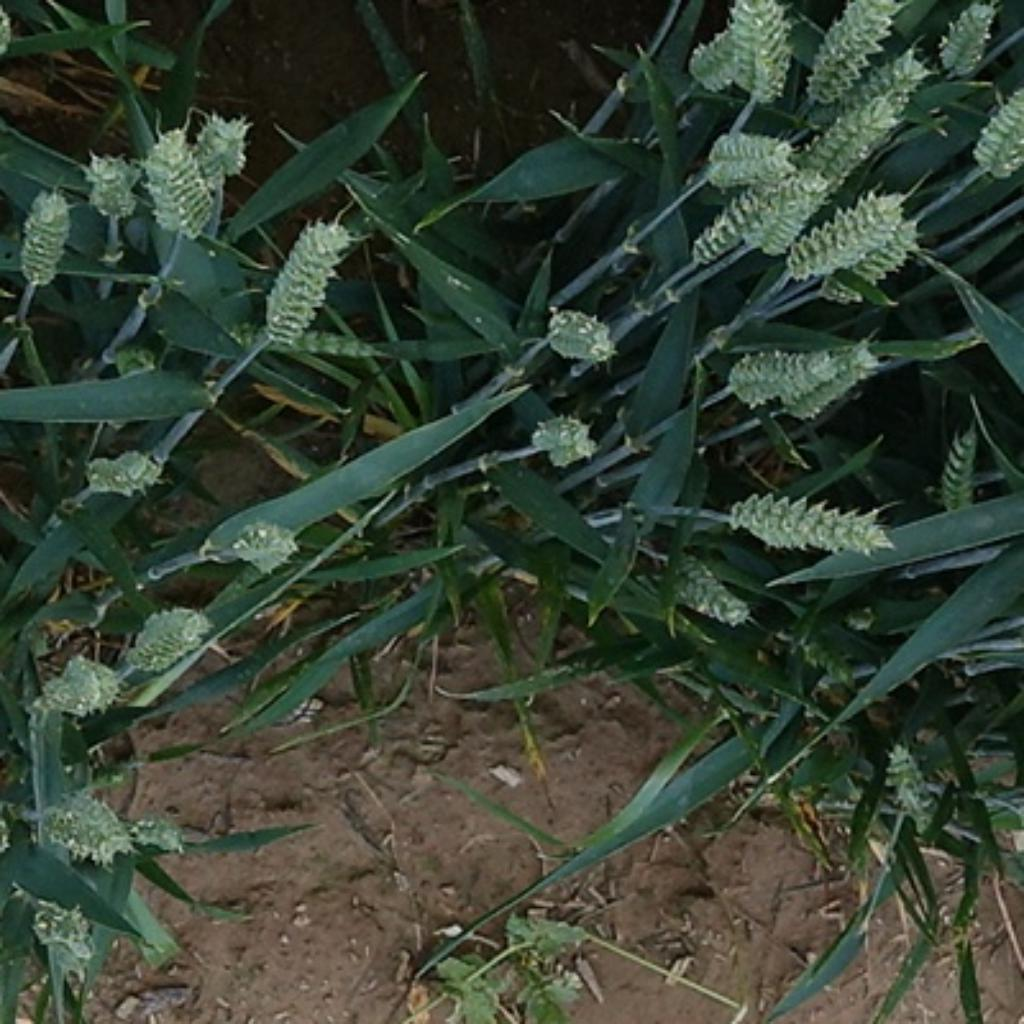0-0: (765, 179, 908, 284), (716, 478, 901, 558), (714, 322, 852, 419), (802, 81, 907, 194), (805, 45, 933, 135), (792, 0, 902, 97), (689, 177, 819, 259), (262, 217, 348, 337), (645, 540, 757, 632), (811, 220, 921, 309), (768, 343, 872, 430), (38, 793, 134, 867), (145, 121, 210, 230), (729, 2, 791, 102), (129, 605, 210, 680), (532, 296, 622, 363), (683, 18, 760, 94), (229, 321, 386, 358), (79, 435, 168, 499), (15, 193, 73, 285), (931, 2, 993, 87), (42, 656, 125, 719), (707, 126, 791, 184), (880, 745, 941, 823), (192, 114, 256, 187), (974, 85, 1024, 176), (224, 517, 301, 575), (79, 148, 140, 220), (526, 414, 600, 468), (35, 902, 94, 959), (937, 430, 978, 509), (128, 808, 186, 855)
